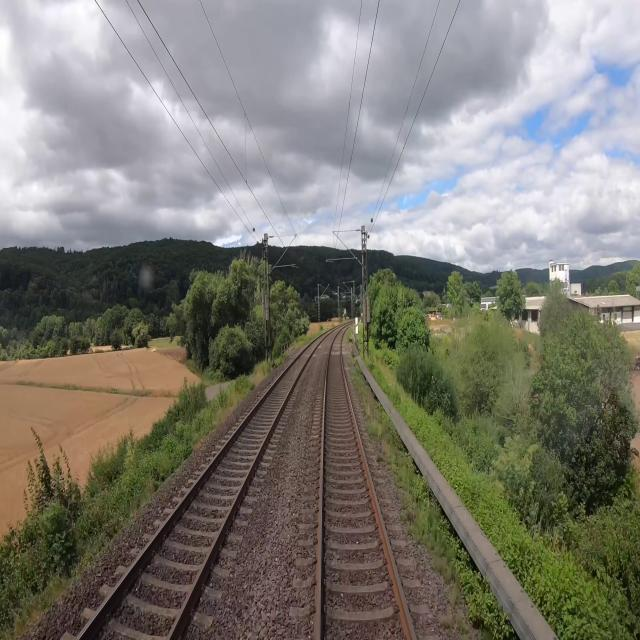Plant: (348, 351, 461, 587), (448, 586, 460, 607), (440, 614, 452, 630), (458, 619, 470, 634), (375, 452, 384, 462)
